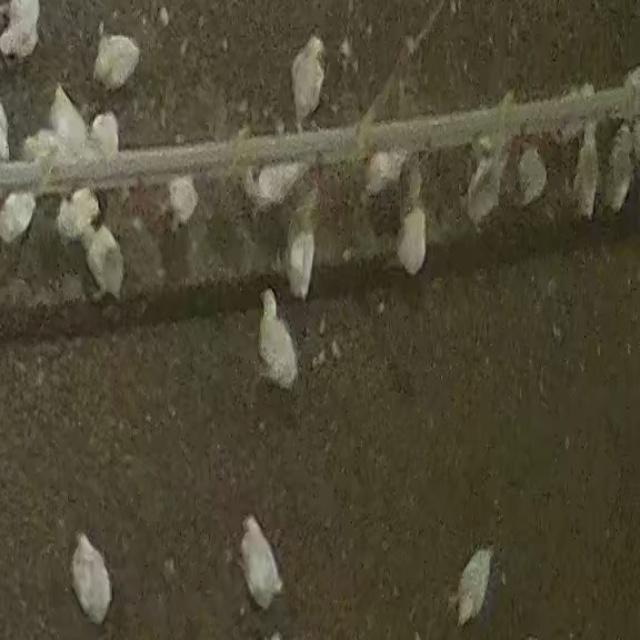chicken: (256, 290, 308, 388), (71, 532, 114, 626), (238, 517, 284, 602), (284, 189, 318, 301), (452, 546, 496, 628), (455, 155, 505, 225), (290, 36, 326, 133), (92, 28, 141, 92), (86, 222, 126, 300), (242, 161, 306, 209), (362, 145, 413, 197), (0, 0, 42, 62), (607, 126, 635, 216), (395, 202, 428, 276), (516, 143, 548, 207), (0, 190, 37, 245)
